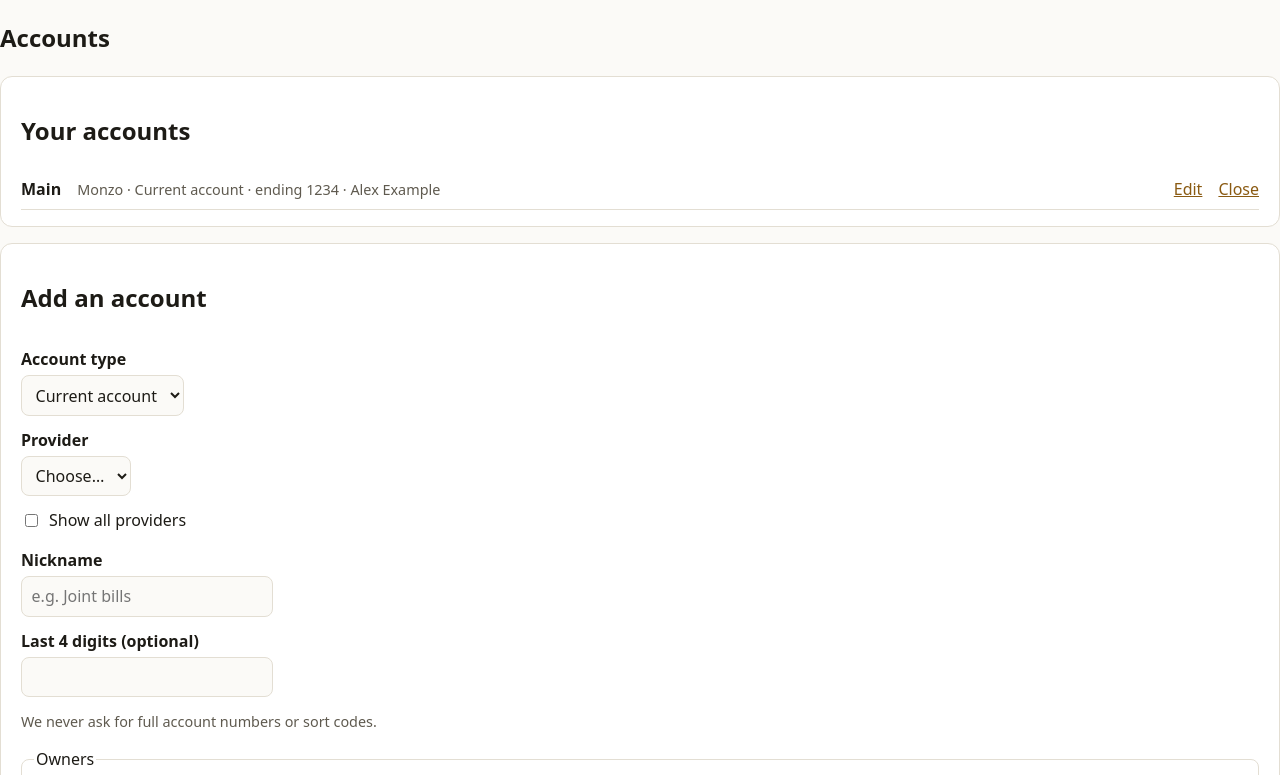
closing an account says which incomes need a new receiving account
Click the button with aria-label "Close Main" at x=1239, y=189, box [1218,177,1259,201]
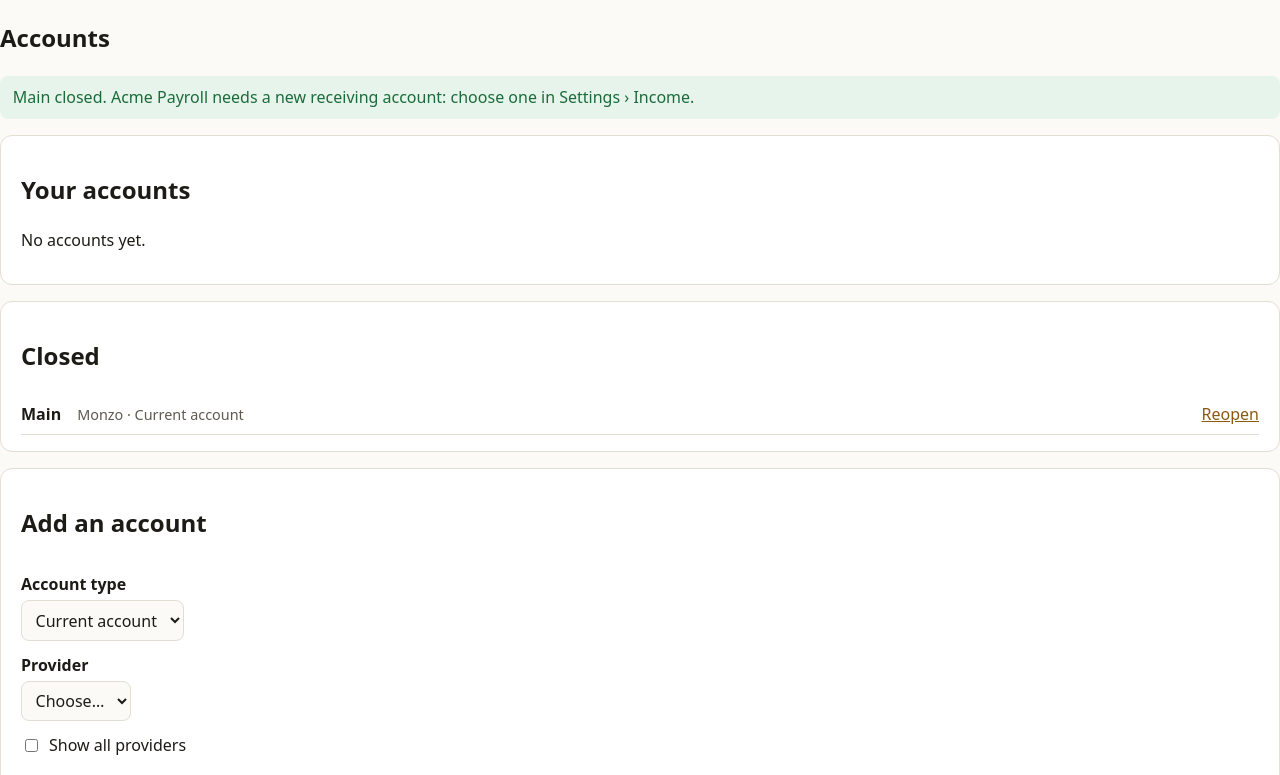
Expected: the text "Main closed. Acme Payroll needs a new receiving account: choose one in Settings › Income." is shown, [13,86,694,108]
